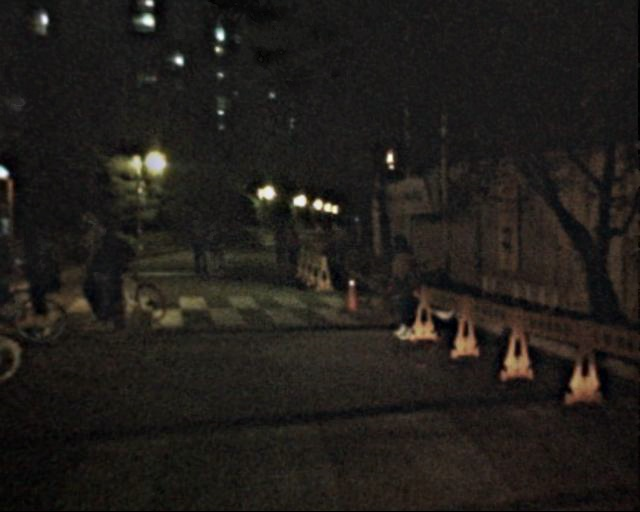person: (380, 235, 423, 340), (94, 219, 136, 322), (23, 227, 63, 325), (76, 212, 116, 310), (1, 219, 27, 334), (185, 218, 210, 279), (202, 220, 226, 279), (270, 225, 287, 267), (281, 225, 296, 262)
